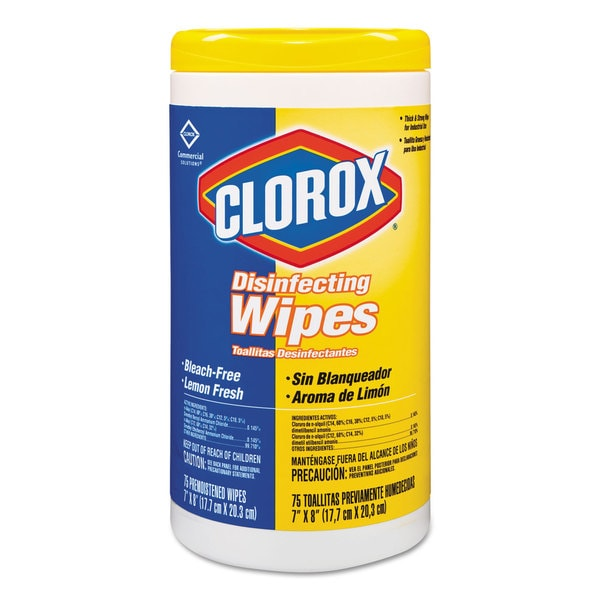Wipes: (158, 23, 441, 578)
